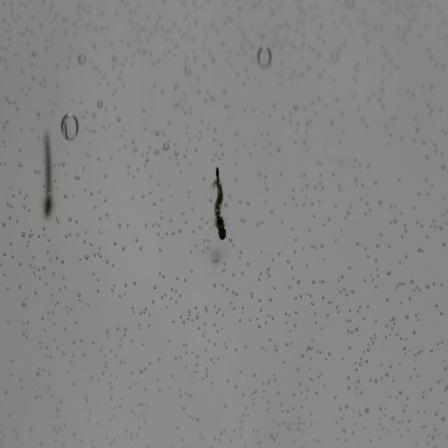Jentik-Nyamuk: (37, 125, 57, 223), (207, 163, 231, 243)
